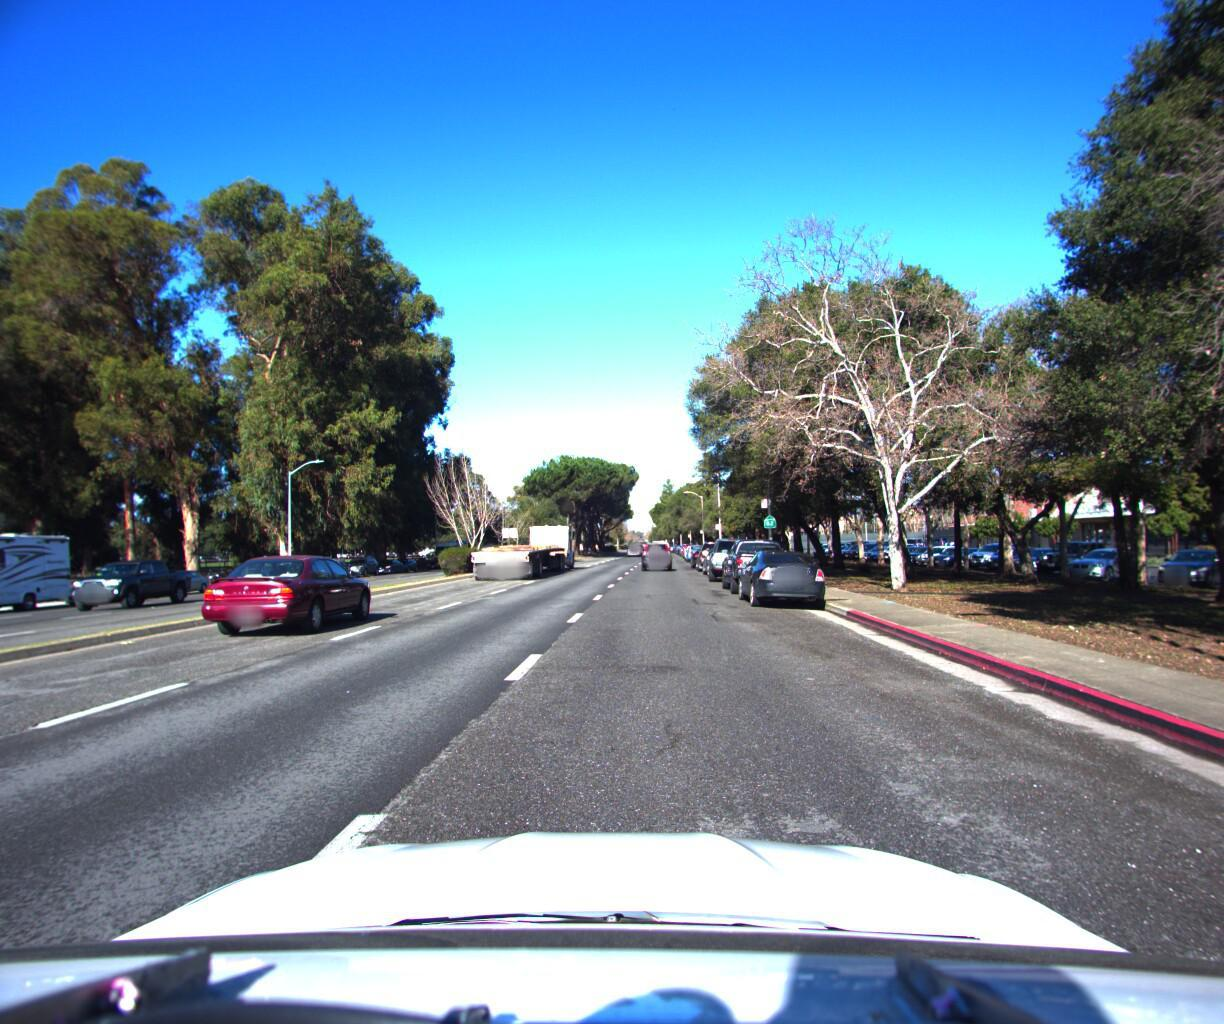car: (201, 546, 383, 640), (57, 555, 194, 612), (730, 540, 833, 606), (718, 529, 795, 591), (706, 528, 756, 579), (139, 563, 215, 596), (694, 532, 733, 567), (638, 535, 673, 569), (340, 550, 381, 574), (370, 553, 405, 571)
motorcycle: (206, 563, 228, 589)
truck: (462, 496, 582, 587)
